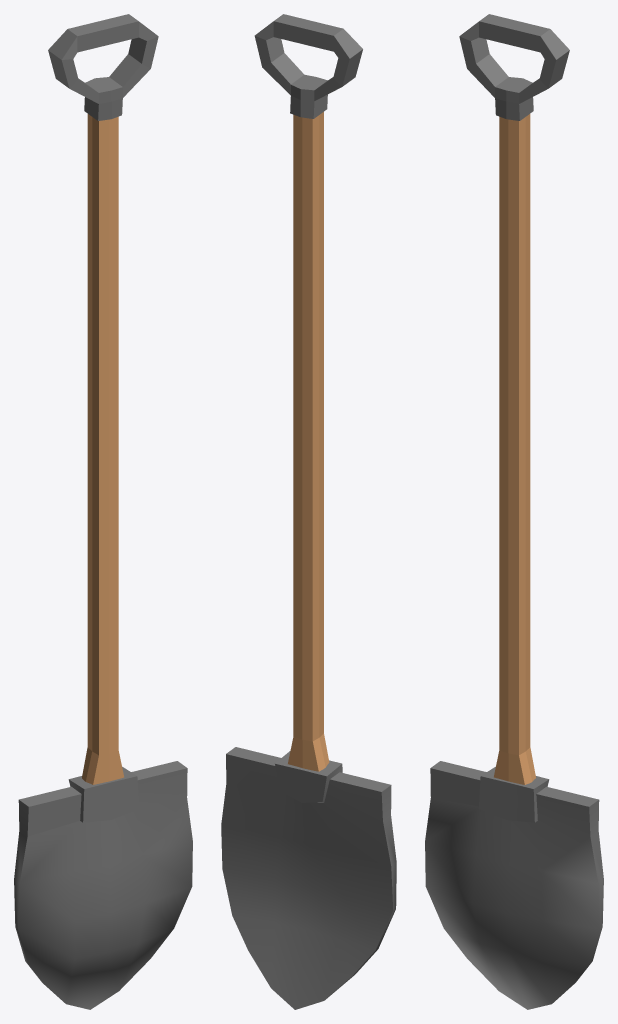
Rendered from SM_Shovel.fbx.
3 renders of one model, left to right at view 1: azimuth 30°, elevation 25°; view 2: azimuth 150°, elevation 25°; view 3: azimuth 330°, elevation 25°, orthographic.
Parts seen in each view (by area): view 1: Cube.012; view 2: Cube.012; view 3: Cube.012.
Boxes of the visible parts, <box> form: Cube.012: <box>14,14,192,1009</box>; Cube.012: <box>221,14,396,1009</box>; Cube.012: <box>425,14,603,1009</box>.
Size of the model in its own units: 24.88 by 136 by 5.62.
